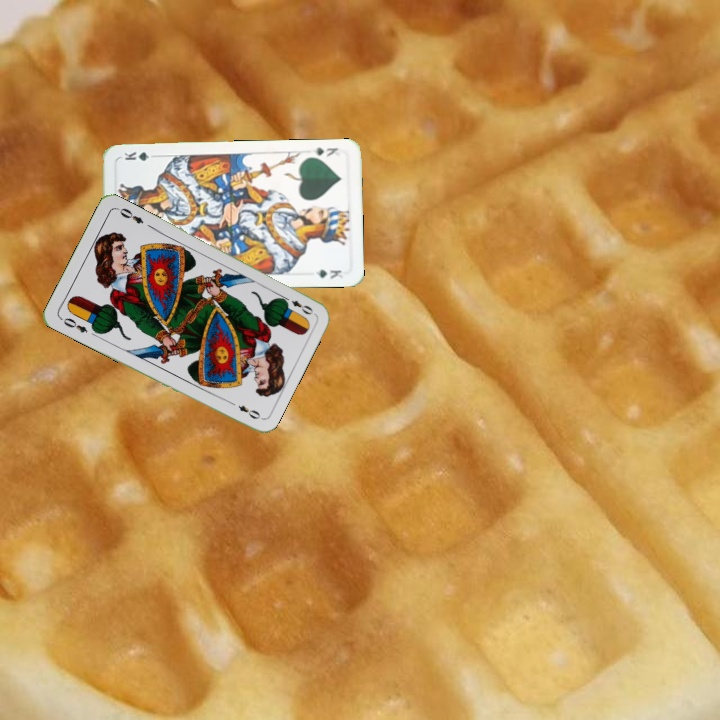EO: (278, 292, 315, 317), (56, 314, 90, 335)
GK: (308, 143, 341, 159)
